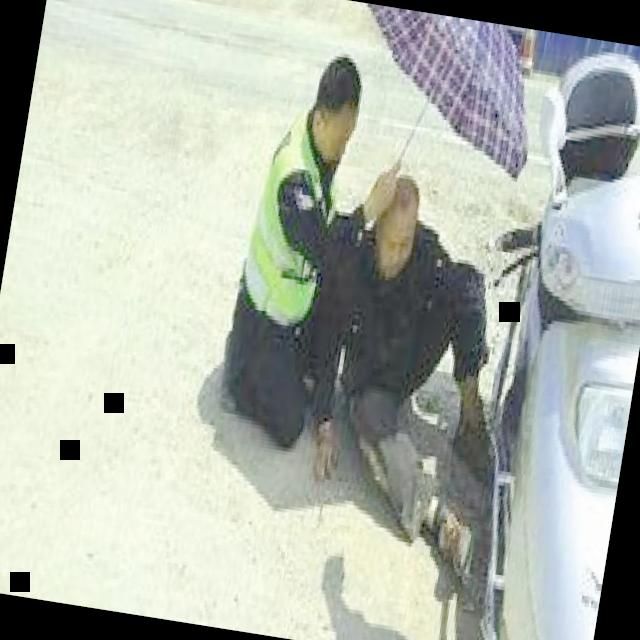Fall-Detected: (290, 142, 551, 591)
